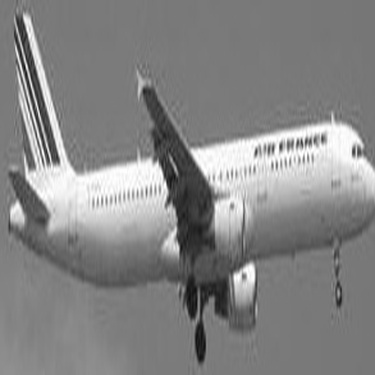airplane: (2, 6, 362, 341)
